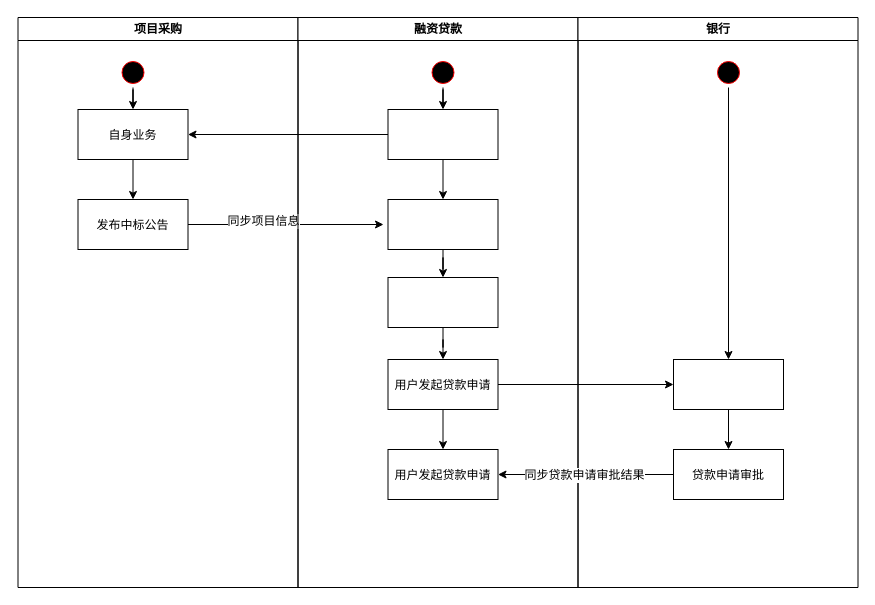
This 875x605 diagram has some shape labels left out. The centre of each missing label's shape, as x and y in pixels:
"依赖方对接" belongs at point (442, 134).
"接收中标项目信息" belongs at point (442, 224).
"贷款申请流程" belongs at point (728, 384).
"项目和供应商 维度落库" belongs at point (442, 302).
